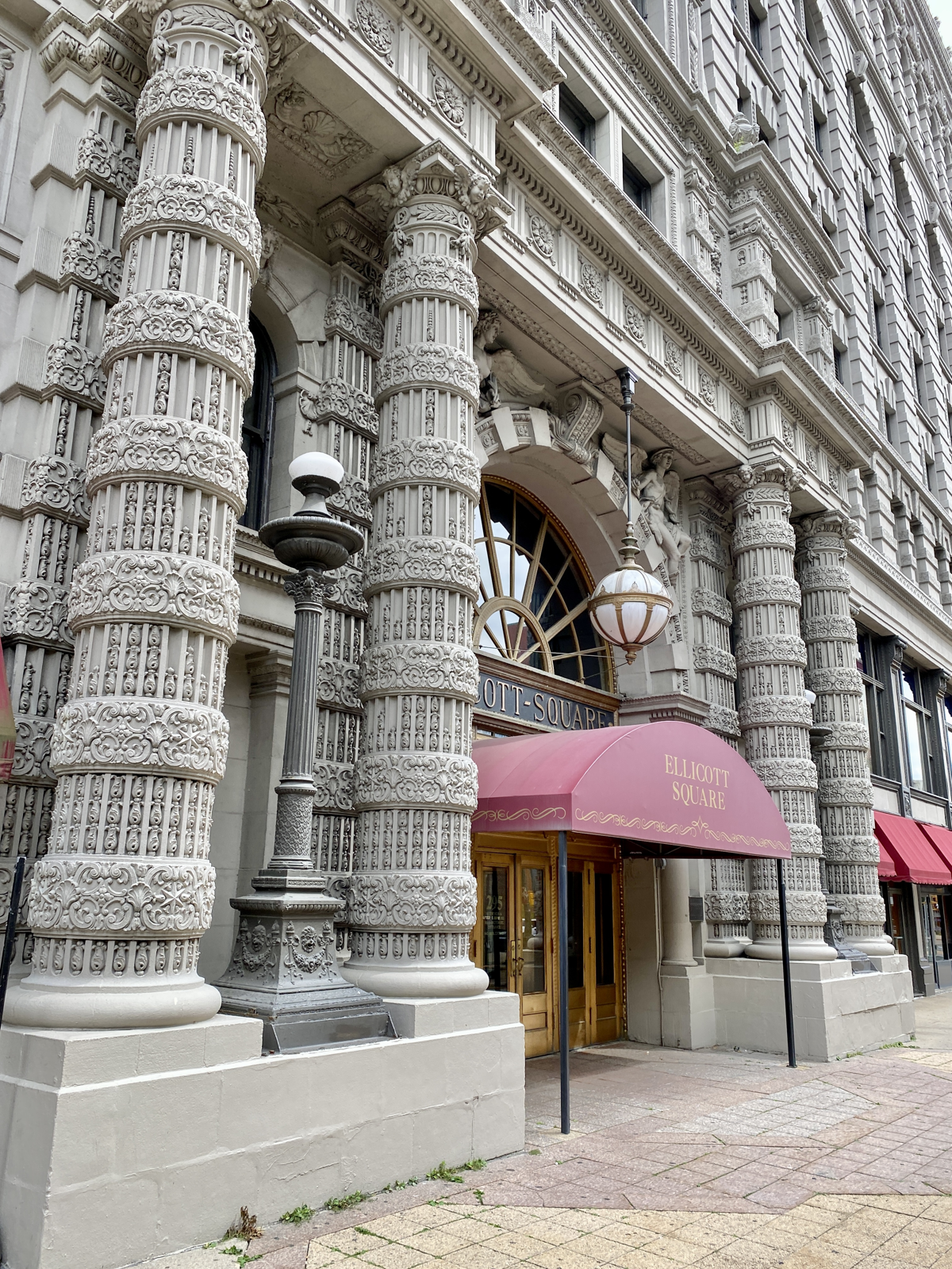fachada: (4, 4, 952, 1186)
poste: (266, 440, 381, 1043)
